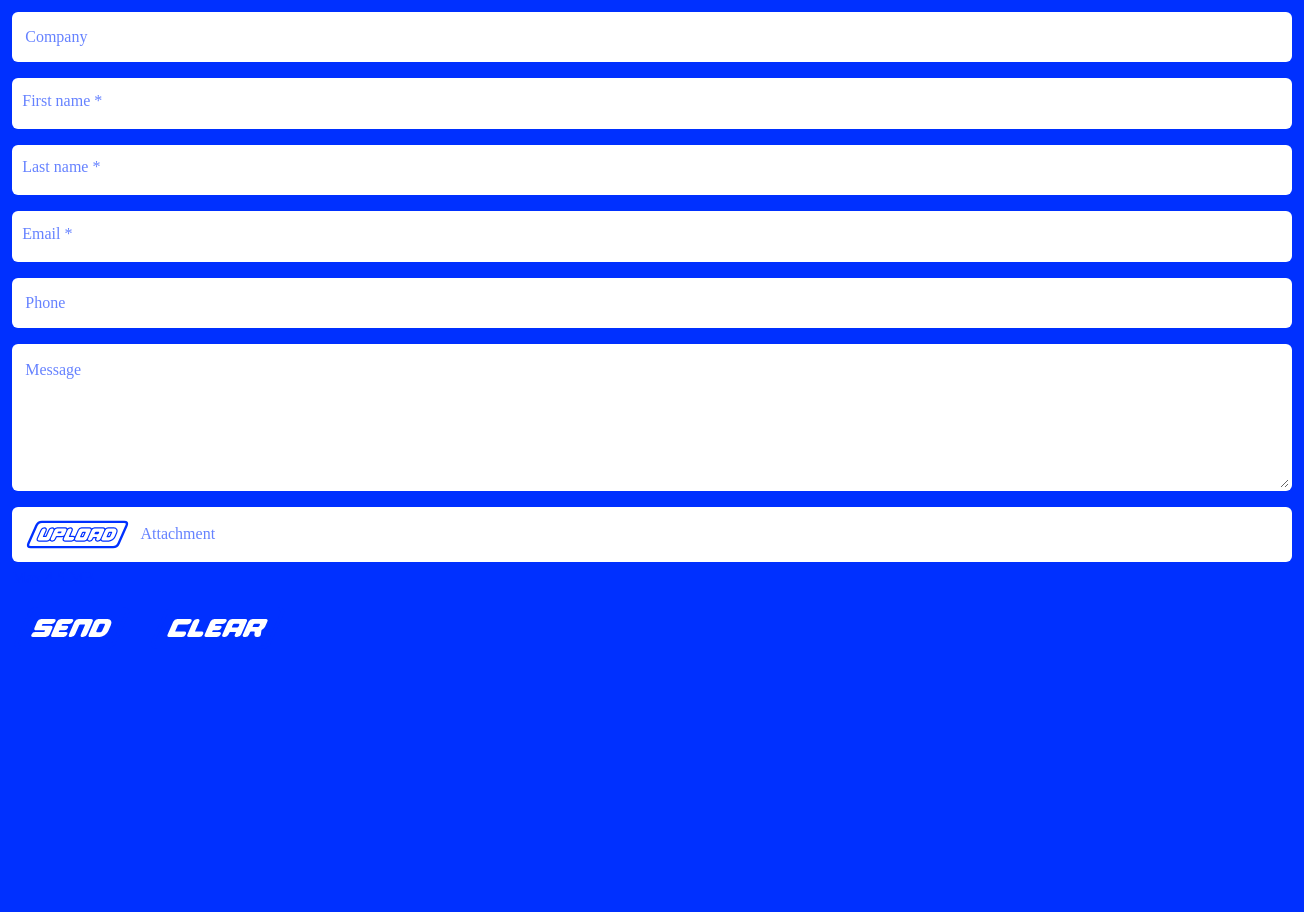
Test case: Given only the email field is left empty › When the visitor submits › Then the email field's message is shown and no request is sent
Type "Ada" into the field labelled "First name".
click(652, 104); type("Ada")  # box [12,78,1292,129]
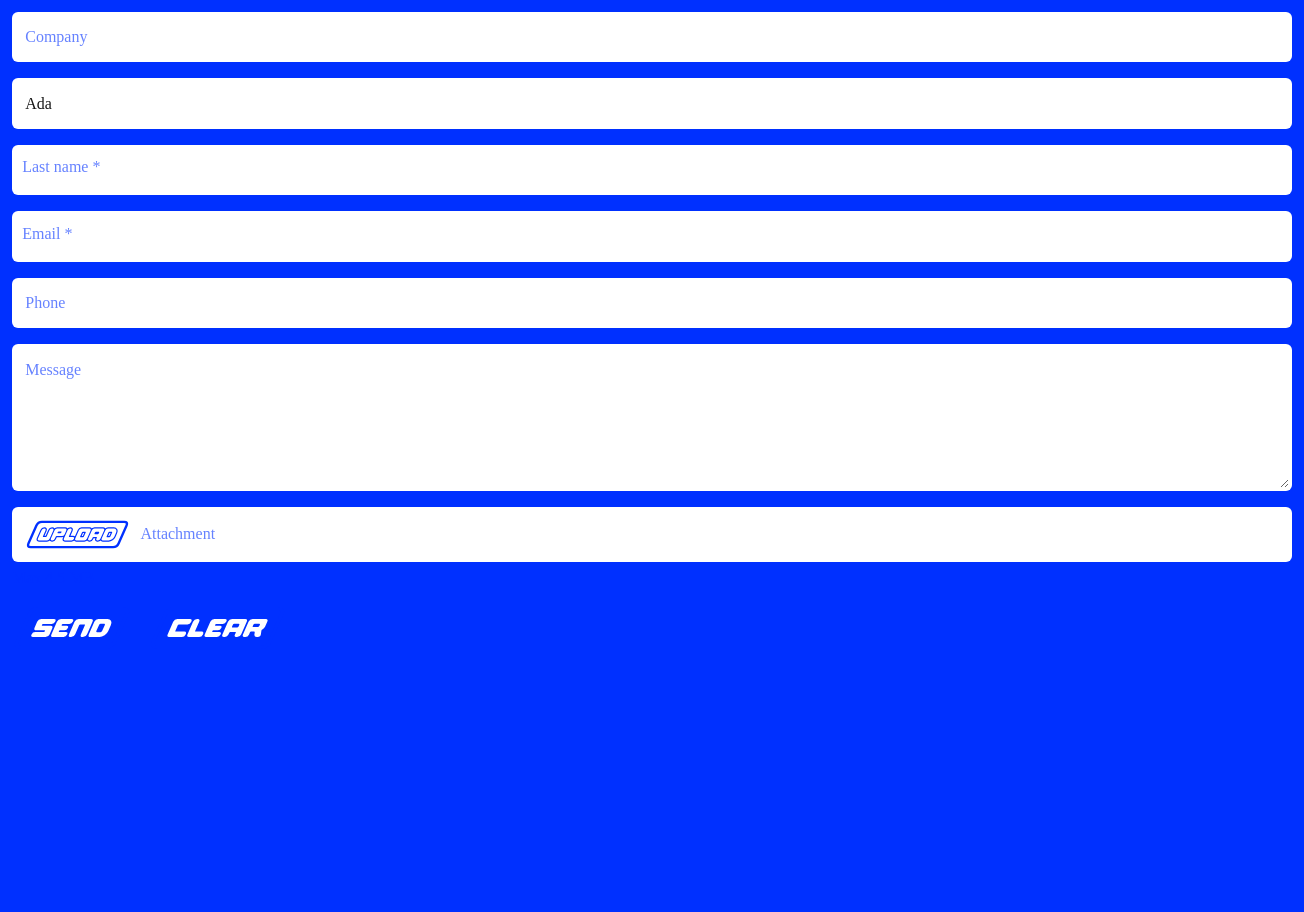
Type "Lovelace" into the field labelled "Last name".
click(652, 170); type("Lovelace")  # box [12,145,1292,195]
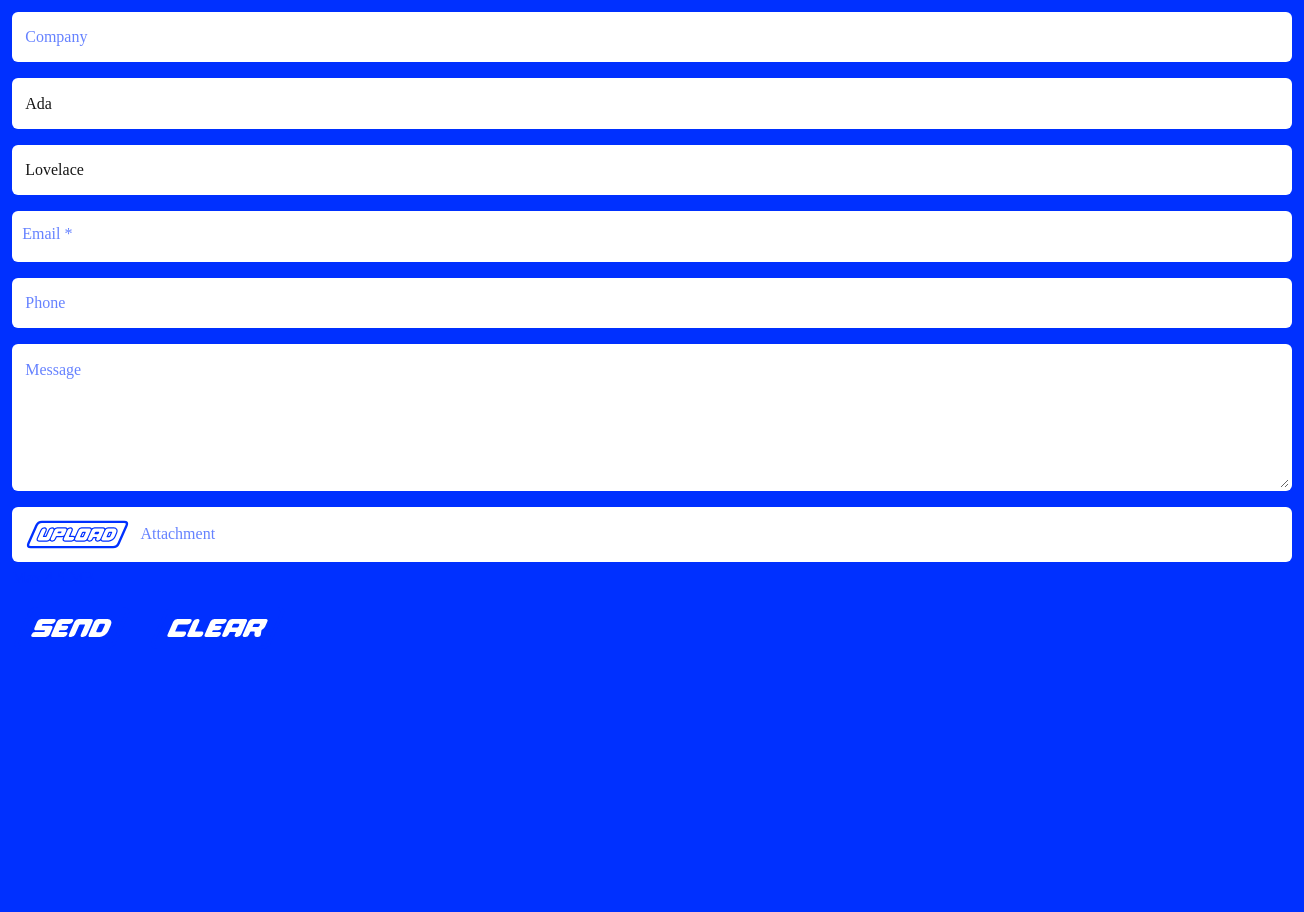
Click the 2nd button named "Send".
click(72, 628)  # box [12,606,132,650]
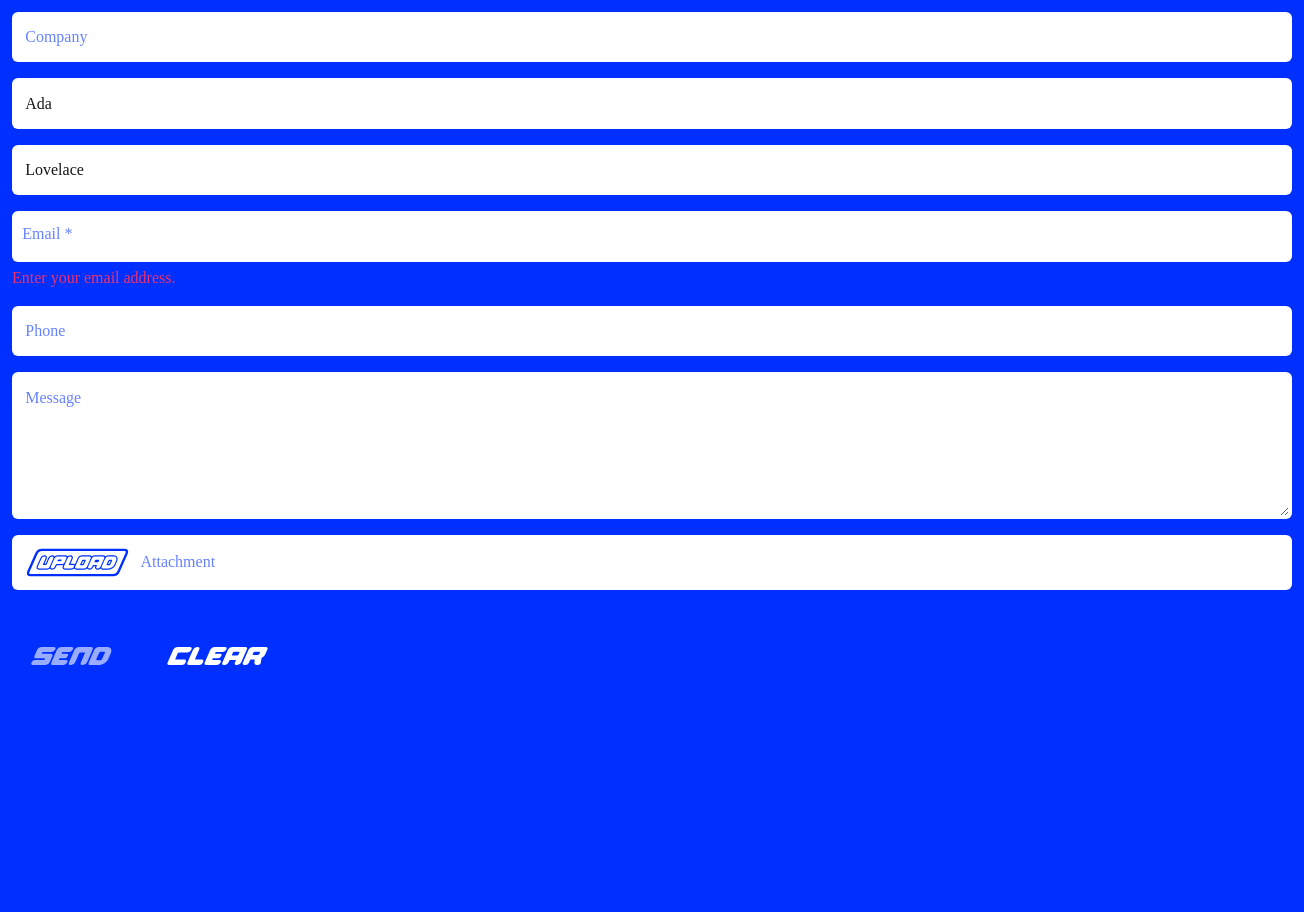
Result: the text "Enter your email address." is shown at [12,269,176,286]
Result: the 2nd button named "Send" is disabled at [12,634,132,678]
